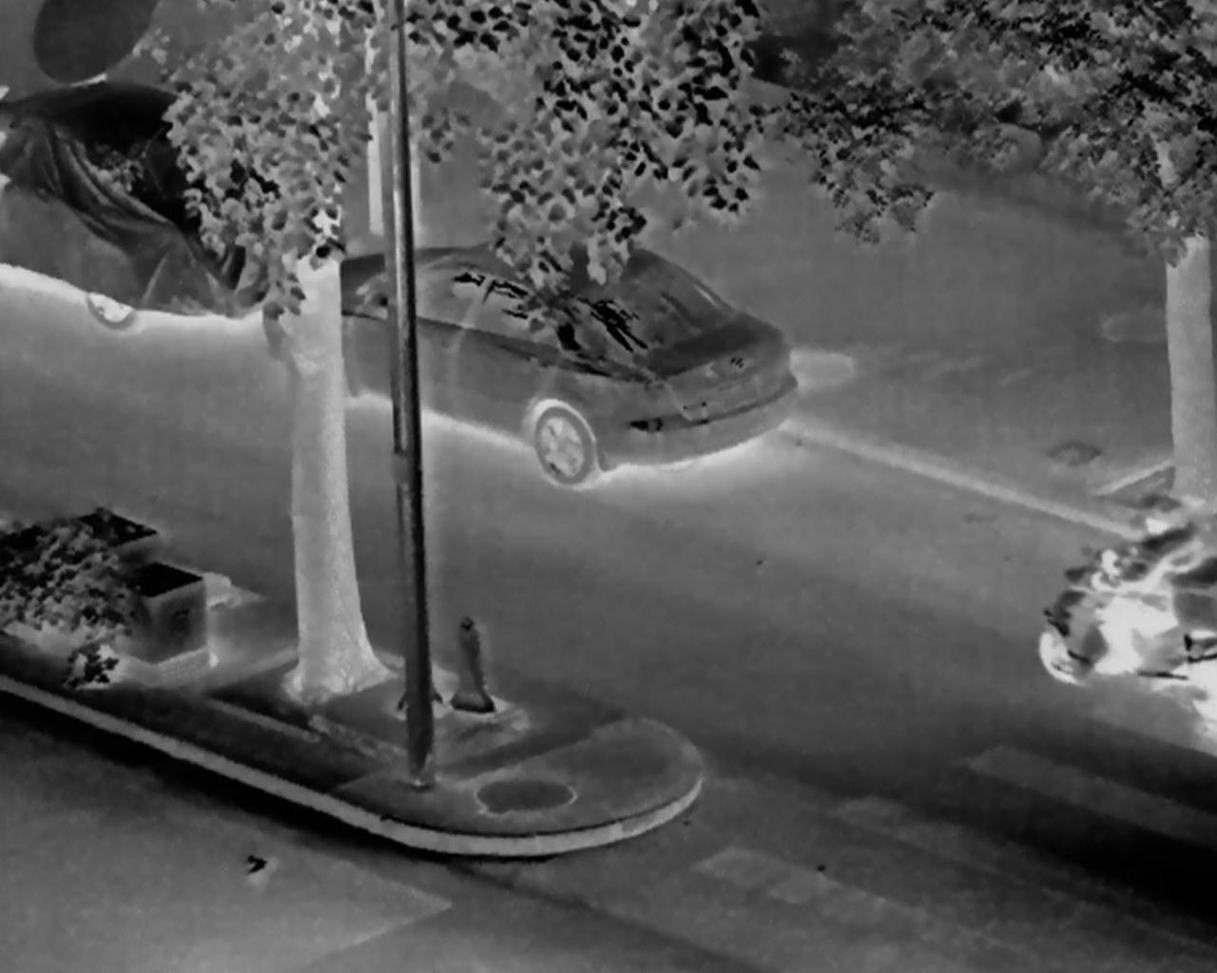person: (1095, 492, 1206, 675)
